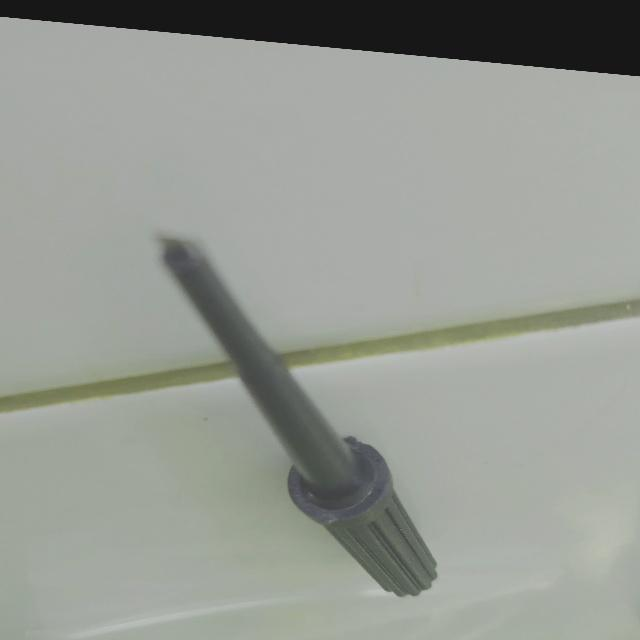Screw Driver: (79, 224, 497, 632)
